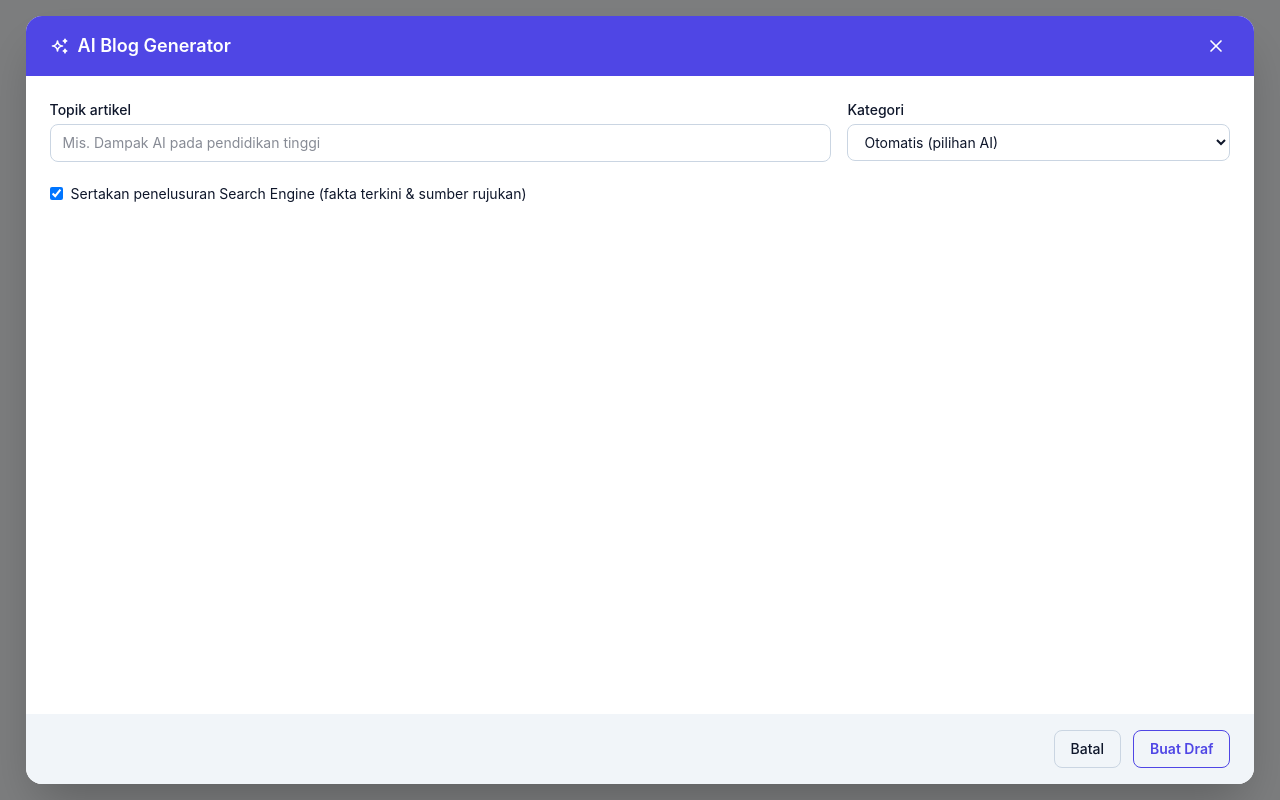
Test: AiPostGeneratorModal › tanpa penelusuran web: tidak ada sumber maupun peringatan
The image size is (1280, 800).
Type "Topik biasa" into the field labelled "Topik artikel" at [441, 143], box [50,124,832,162]
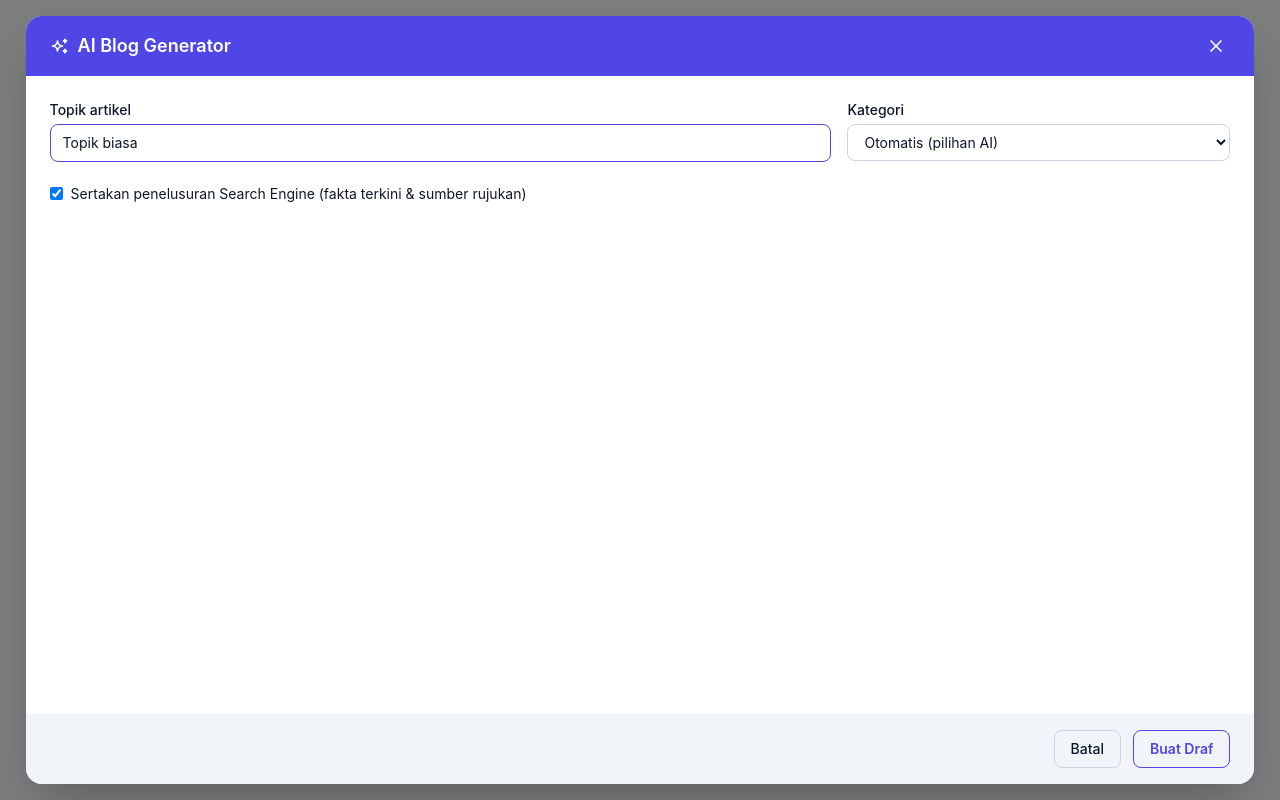
Click the checkbox labelled "Sertakan penelusuran" at [56, 194], box [50,187,63,200]
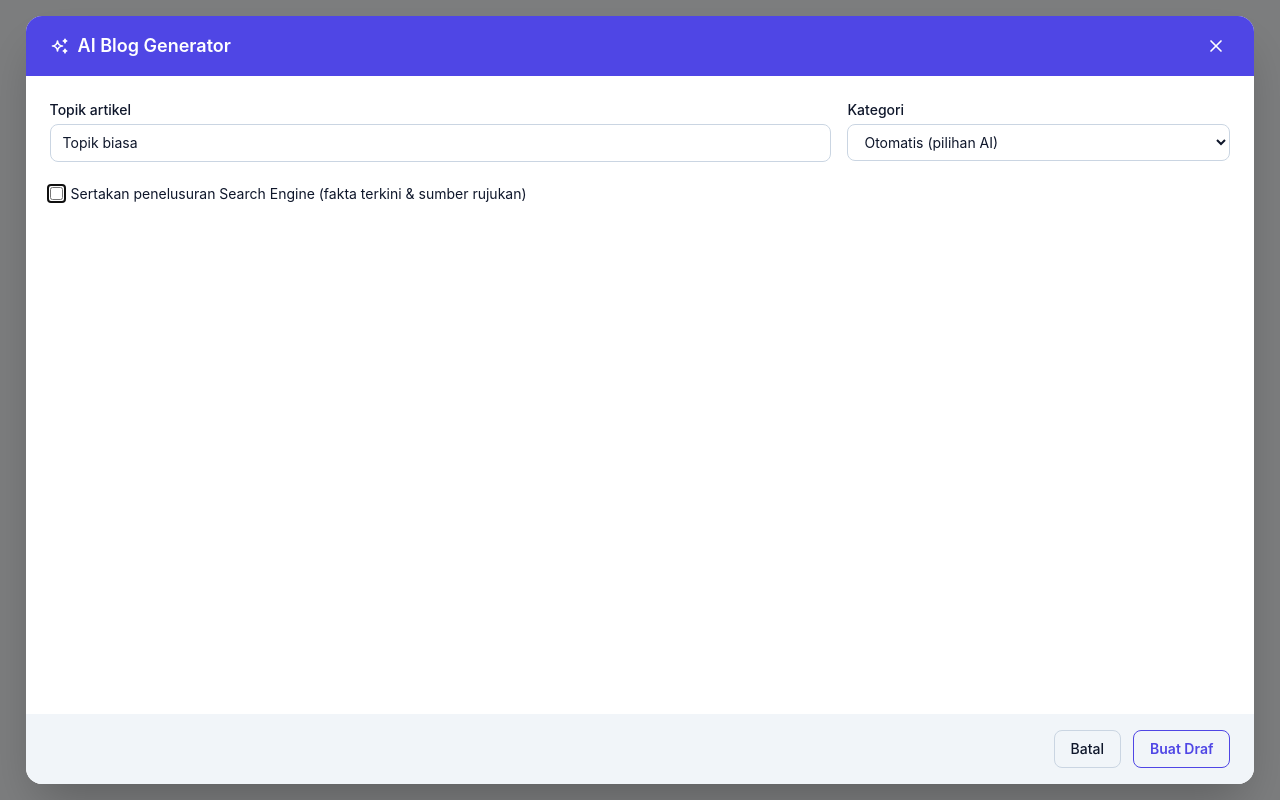
Click the button "Buat Draf" at [1182, 749], box [1133,730,1230,768]
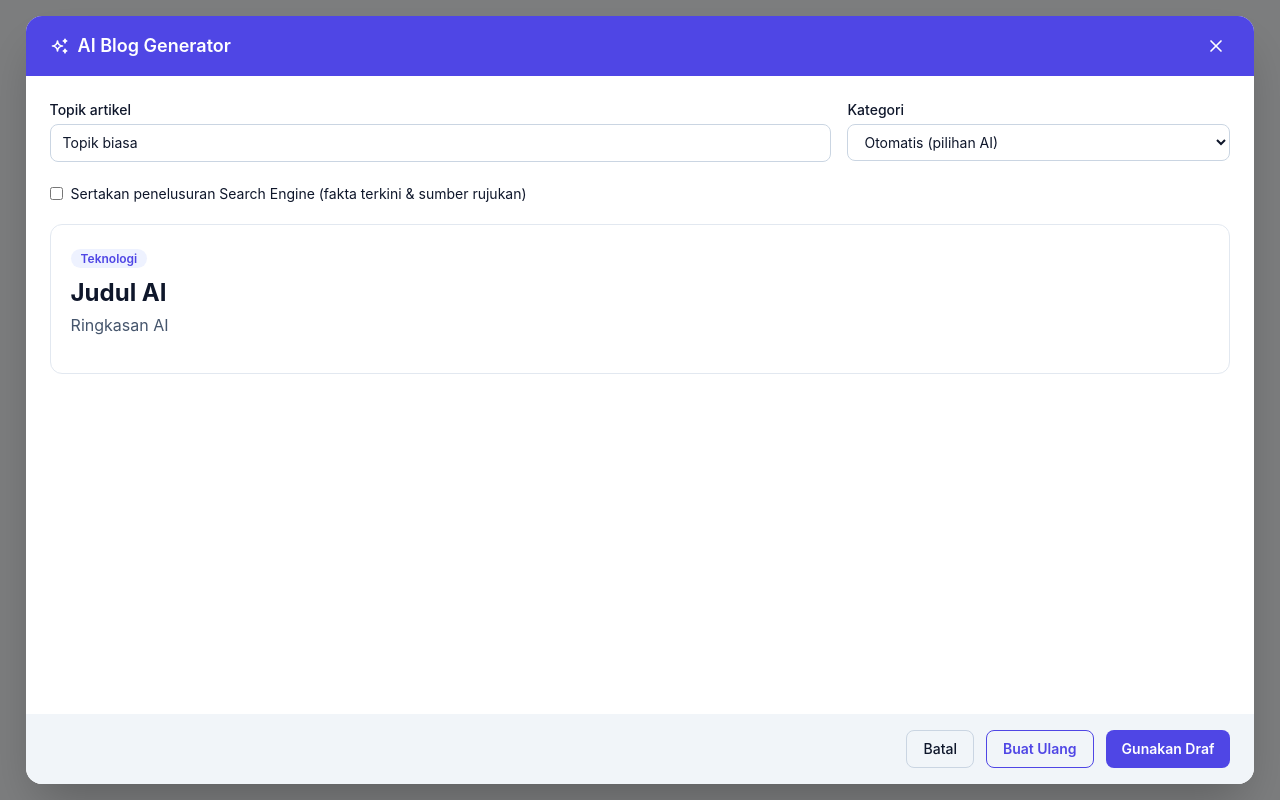
Expected: the heading "Judul AI" is shown, [71,278,166,306]
